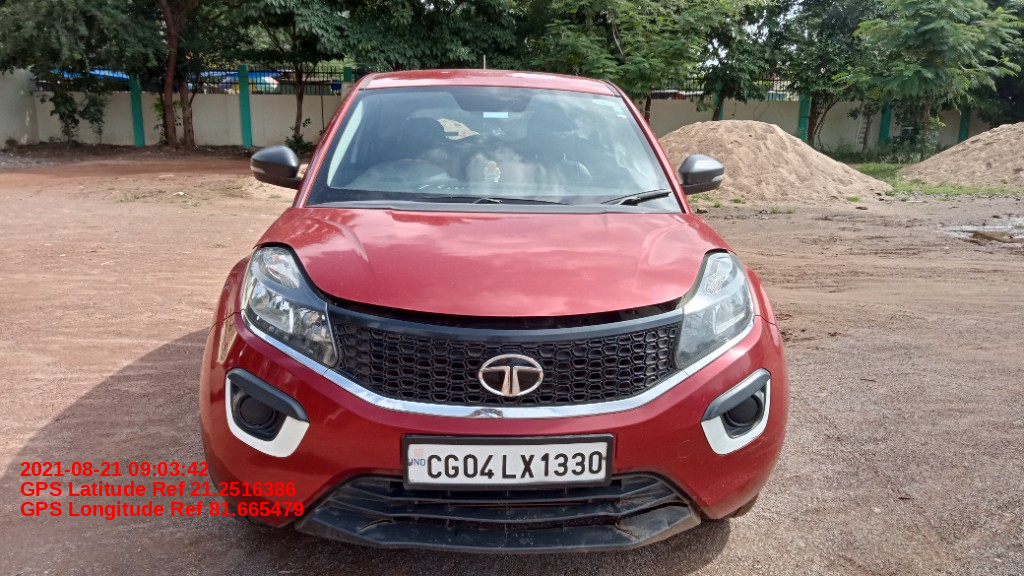Broken: (637, 495, 696, 519), (354, 514, 404, 541), (601, 522, 645, 544)
Scratched: (742, 435, 785, 461)
